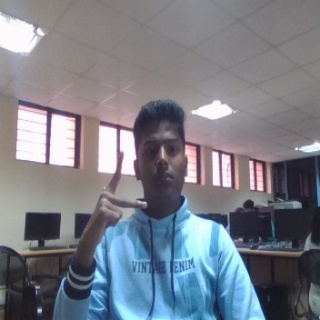Okay: (83, 151, 148, 252)
